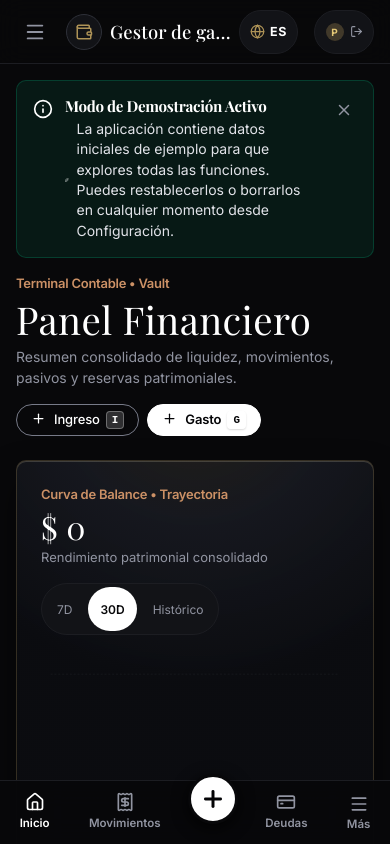
Scenario: Aplicación y Navegación › renderiza la barra de navegación móvil inferior y abre la hoja de acciones rápidas
Expected: the navigation bar named "Navegación móvil" is shown, [0,780,389,843]
Note: Abrir hoja de acciones rápidas al hacer clic en el botón flotante
Click the link named "Registrar nueva operación financiera". click: (213, 798)
box: [188,774,238,824]
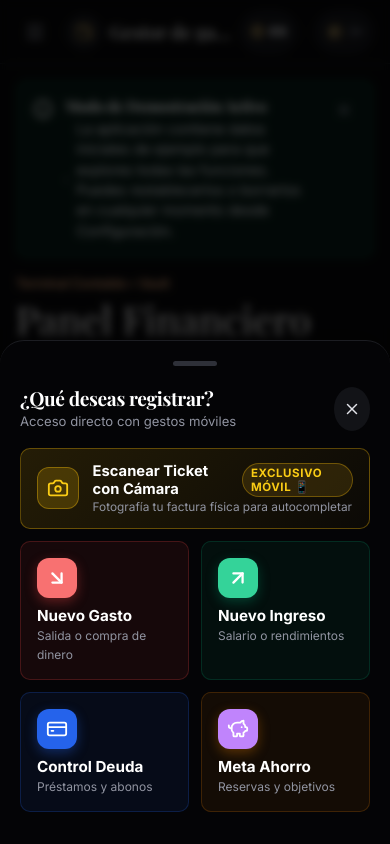
Expected: the heading "¿Qué deseas registrar?" is shown, [20,386,236,410]
Expected: the text "Nuevo Gasto" is shown, [37,606,132,625]
Expected: the text "Nuevo Ingreso" is shown, [218,606,344,625]
